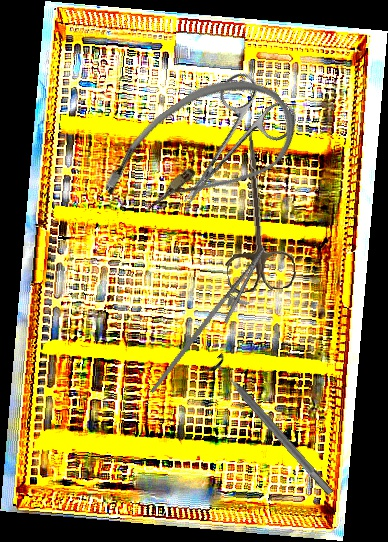Cannula: (88, 52, 311, 253)
Fixation Ring: (201, 352, 342, 503)
Iris Scissors: (151, 66, 303, 227), (212, 129, 298, 295)
Needle Holder: (149, 234, 279, 413)
